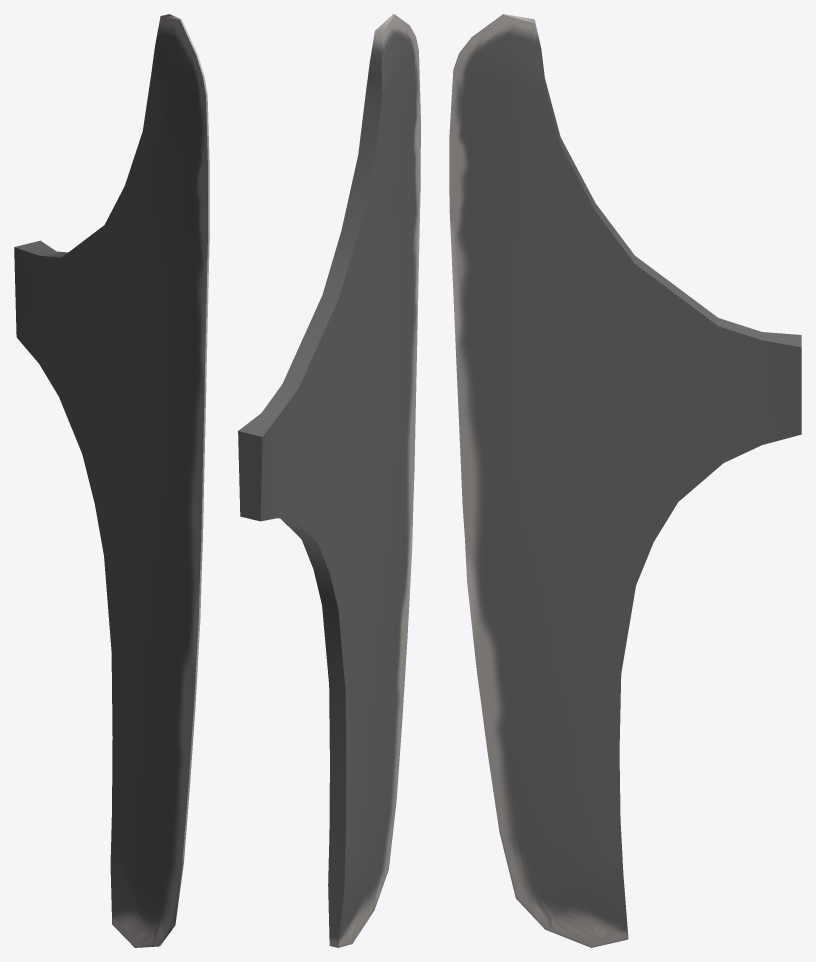
Rendered from wheeler_ii_axehead_neckless.fbx.
The picture shows the model from 3 angles, left to right: view 1: azimuth 30°, elevation 25°; view 2: azimuth 150°, elevation 25°; view 3: azimuth 270°, elevation 25°; orthographic projection. The views are drawn at different scales.
Visible parts, largest first — view 1: axe; view 2: axe; view 3: axe.
Part boxes in pixels (left/top/right/bottom): axe: left=14, top=14, right=209, bottom=947; axe: left=238, top=14, right=420, bottom=947; axe: left=449, top=14, right=801, bottom=947.
Bounding box in the file's own units: 15.38 × 536 × 184.
